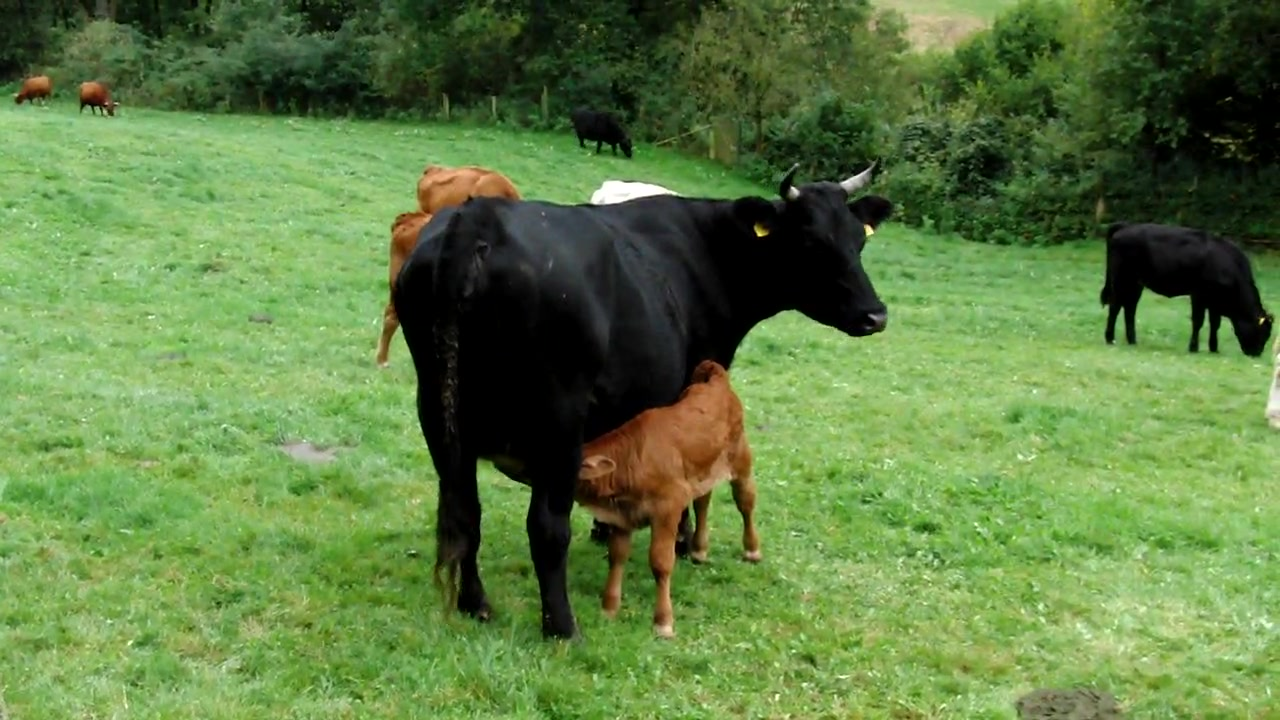cow: (375, 161, 900, 645)
